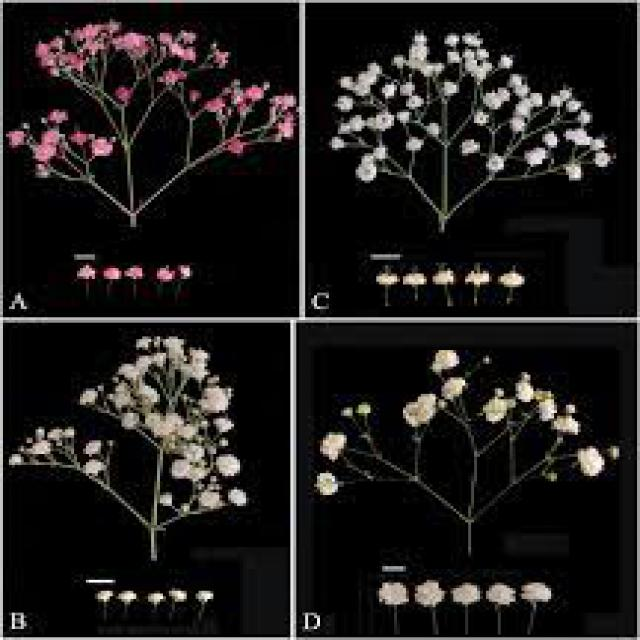gypsophila: (337, 30, 620, 210), (402, 553, 450, 615), (566, 444, 618, 487), (520, 379, 562, 428), (306, 427, 366, 457), (557, 405, 596, 451), (379, 569, 419, 612), (402, 385, 437, 434), (481, 376, 514, 426), (423, 336, 460, 379), (481, 572, 519, 610), (320, 466, 352, 506), (138, 577, 172, 611), (119, 580, 150, 616), (89, 580, 127, 608), (212, 442, 241, 478), (520, 576, 554, 605), (463, 264, 498, 292), (500, 263, 530, 294), (449, 580, 482, 607), (165, 578, 192, 610), (192, 582, 227, 606), (403, 265, 430, 296), (167, 451, 190, 484), (432, 265, 461, 288), (230, 486, 253, 508), (378, 269, 401, 289)
